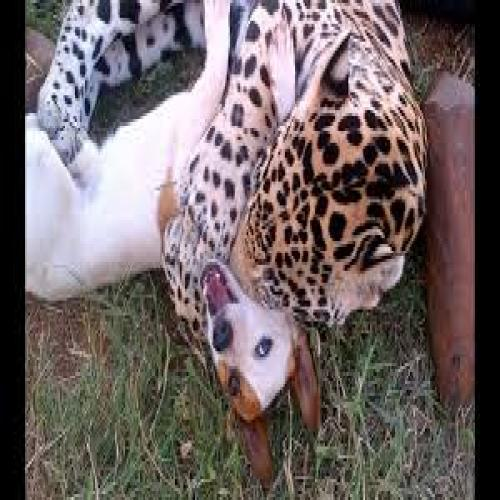jaguar_not-endangered: (44, 0, 423, 324)
